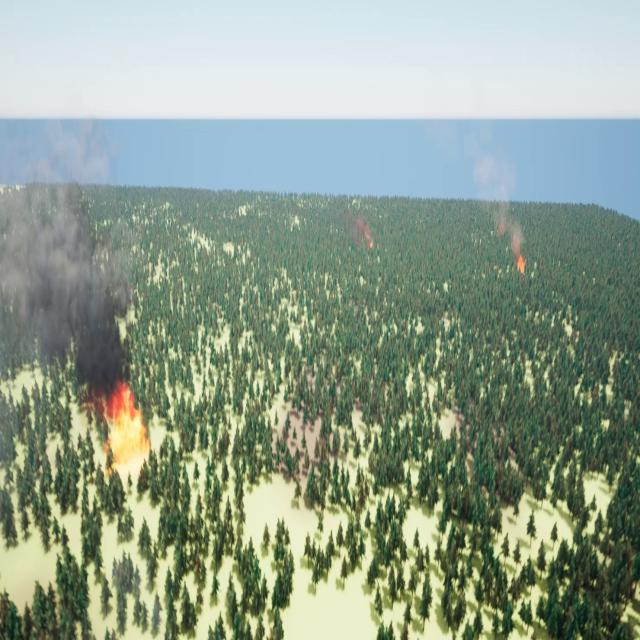fire: (99, 385, 153, 466), (516, 256, 526, 274)
smoke: (0, 115, 137, 384), (469, 144, 529, 257), (348, 210, 377, 252)
